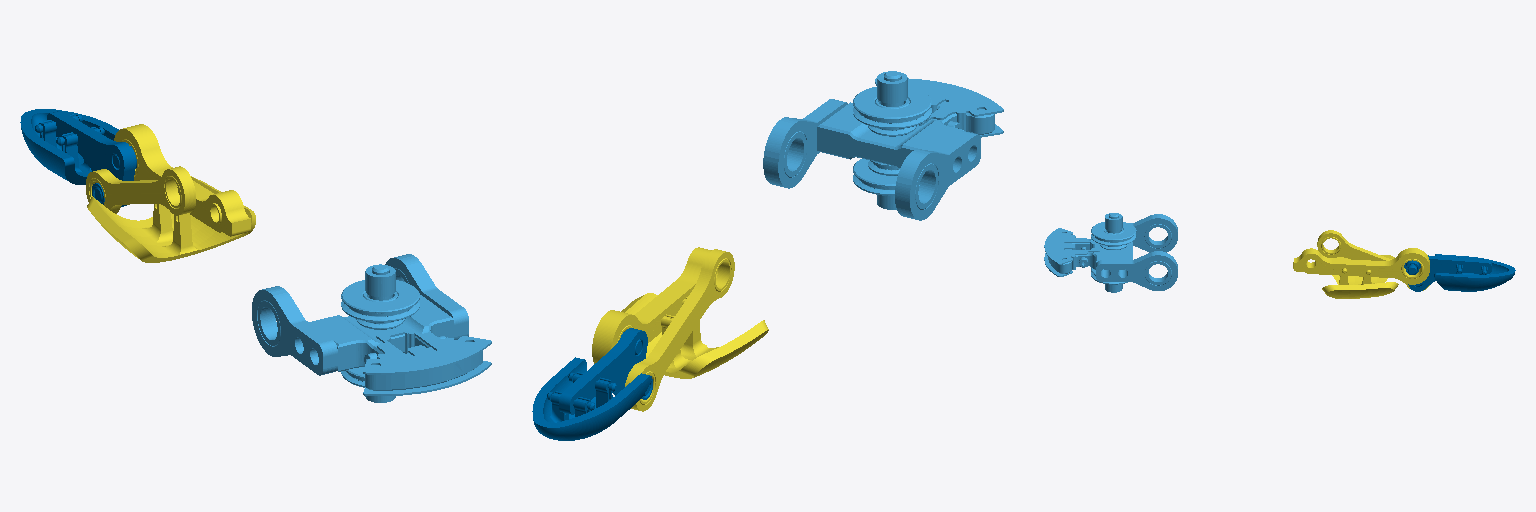
The robot description file, URDF, robot "finger":
<?xml version="1.0"?>
<robot name="finger">

  <!-- Generated by blender_export.py from /home/michael-jenz/rds_ws/src/robotic-finger/blender_files/rds_finger2.blend -->

  <material name="blue">
    <color rgba="0 0 1 1"/>
  </material>
  <material name="green">
    <color rgba="0 1 0 1"/>
  </material>
  <material name="red">
    <color rgba="1 0 0 1"/>
  </material>
  <material name="purple">
    <color rgba="1 0 1 1"/>
  </material>
  <material name="grey">
    <color rgba="0.5 0.5 0.5 1"/>
  </material>
  <material name="yellow">
    <color rgba="1 1 0 1"/>
  </material>

  <!-- Finger base -->
  <link name="base_link">
    <visual>
      <geometry>
        <mesh filename="package://finger_description/meshes/urdf/visual/base_link.obj"/>
      </geometry>
    </visual>
    <collision>
      <geometry>
        <mesh filename="package://finger_description/meshes/urdf/collision/col_base_link.obj"/>
      </geometry>
    </collision>
    <inertial>
      <mass value="0.05"/>
      <origin xyz="0 0 0" rpy="0 0 0"/>
      <inertia ixx="1e-05" ixy="0" ixz="0" iyy="1e-05" iyz="0" izz="1e-05"/>
    </inertial>
  </link>

  <!-- Mcp Splay -->
  <joint name="mcp_splay" type="revolute">
    <parent link="base_link"/>
    <child link="mcp_link"/>
    <origin xyz="0.0 0.0 -0.0" rpy="0 0 0"/>
    <axis xyz="0.0 0.0 1.0"/>
    <limit lower="-0.174533" upper="0.174533" effort="5.0" velocity="3.14"/>
    <dynamics damping="0.1" friction="0.0"/>
  </joint>

  <!-- Space between MCP splay and flexion -->
  <link name="mcp_link">
    <visual>
      <geometry>
        <mesh filename="package://finger_description/meshes/urdf/visual/mcp_link.obj"/>
      </geometry>
    </visual>
    <collision>
      <geometry>
        <mesh filename="package://finger_description/meshes/urdf/collision/col_mcp_link.obj"/>
      </geometry>
    </collision>
    <inertial>
      <mass value="0.01"/>
      <origin xyz="0 0 0" rpy="0 0 0"/>
      <inertia ixx="1e-05" ixy="0" ixz="0" iyy="1e-05" iyz="0" izz="1e-05"/>
    </inertial>
  </link>

  <!-- Mcp Flexion -->
  <joint name="mcp_flexion" type="revolute">
    <parent link="mcp_link"/>
    <child link="proximal_phalanx"/>
    <origin xyz="-0.0 0.0178 0.0" rpy="0 0 0"/>
    <axis xyz="-1.0 0.0 0.0"/>
    <limit lower="0" upper="1.57" effort="5.0" velocity="3.14"/>
    <dynamics damping="0.1" friction="0.0"/>
  </joint>

  <!-- Proximal phalanx -->
  <link name="proximal_phalanx">
    <visual>
      <geometry>
        <mesh filename="package://finger_description/meshes/urdf/visual/proximal_phalanx.obj"/>
      </geometry>
    </visual>
    <collision>
      <geometry>
        <mesh filename="package://finger_description/meshes/urdf/collision/col_proximal_phalanx.obj"/>
      </geometry>
    </collision>
    <inertial>
      <mass value="0.01"/>
      <origin xyz="0 0 0" rpy="0 0 0"/>
      <inertia ixx="1e-05" ixy="0" ixz="0" iyy="1e-05" iyz="0" izz="1e-05"/>
    </inertial>
  </link>

  <!-- Pip Flexion -->
  <joint name="pip_flexion" type="revolute">
    <parent link="proximal_phalanx"/>
    <child link="middle_phalanx"/>
    <origin xyz="-0.0001 0.0612 -0.0017" rpy="0 0 0"/>
    <axis xyz="-1.0 0.0 0.0"/>
    <limit lower="0.0" upper="1.57" effort="5.0" velocity="3.14"/>
    <dynamics damping="0.1" friction="0.0"/>
  </joint>

  <!-- Middle phalanx -->
  <link name="middle_phalanx">
    <visual>
      <geometry>
        <mesh filename="package://finger_description/meshes/urdf/visual/middle_phalanx.obj"/>
      </geometry>
    </visual>
    <collision>
      <geometry>
        <mesh filename="package://finger_description/meshes/urdf/collision/col_middle_phalanx.obj"/>
      </geometry>
    </collision>
    <inertial>
      <mass value="0.008"/>
      <origin xyz="0 0 0" rpy="0 0 0"/>
      <inertia ixx="5e-06" ixy="0" ixz="0" iyy="5e-06" iyz="0" izz="5e-06"/>
    </inertial>
  </link>

  <!-- Dip Flexion -->
  <joint name="dip_flexion" type="revolute">
    <parent link="middle_phalanx"/>
    <child link="distal_phalanx"/>
    <origin xyz="0.0036 0.0405 -0.0023" rpy="0 0 0"/>
    <axis xyz="-1.0 0.0 0.0"/>
    <limit lower="0.0" upper="1.57" effort="3.0" velocity="3.14"/>
    <dynamics damping="0.1" friction="0.0"/>
    <mimic joint="pip_flexion" multiplier="0.85" offset="0.0"/>
  </joint>

  <!-- Distal phalanx -->
  <link name="distal_phalanx">
    <visual>
      <geometry>
        <mesh filename="package://finger_description/meshes/urdf/visual/distal_phalanx.obj"/>
      </geometry>
    </visual>
    <collision>
      <geometry>
        <mesh filename="package://finger_description/meshes/urdf/collision/col_distal_phalanx.obj"/>
      </geometry>
    </collision>
    <inertial>
      <mass value="0.005"/>
      <origin xyz="0 0 0" rpy="0 0 0"/>
      <inertia ixx="2e-06" ixy="0" ixz="0" iyy="2e-06" iyz="0" izz="2e-06"/>
    </inertial>
  </link>

</robot>

--- What the picture shows (computed from the rendered views, not written in the file) ---
The picture shows the robot from 3 angles, left to right: view 1: azimuth 30°, elevation 25°; view 2: azimuth 150°, elevation 25°; view 3: azimuth 270°, elevation 25°; orthographic projection.
Model finger with 5 links and 4 joints (4 revolute), rooted at base_link, posed all joints at 0.
Links seen in each view (by area): view 1: mcp_link, middle_phalanx, distal_phalanx; view 2: mcp_link, middle_phalanx, distal_phalanx; view 3: mcp_link, middle_phalanx, distal_phalanx.
Link boxes in pixels (<box>): mcp_link: <box>252,254,491,402</box>; middle_phalanx: <box>86,124,255,262</box>; distal_phalanx: <box>20,109,136,206</box>; mcp_link: <box>763,71,1003,220</box>; middle_phalanx: <box>592,247,768,411</box>; distal_phalanx: <box>532,328,652,440</box>; mcp_link: <box>1044,213,1177,292</box>; middle_phalanx: <box>1293,230,1429,298</box>; distal_phalanx: <box>1404,254,1515,291</box>.
Size in the robot's own frame: 0.039 by 0.1884 by 0.0355 metres.
Meshes: 5 distinct files referenced, 3 mesh visuals loaded (3 OBJ); not drawn: 2 (reference not matched to a file when rendering).
